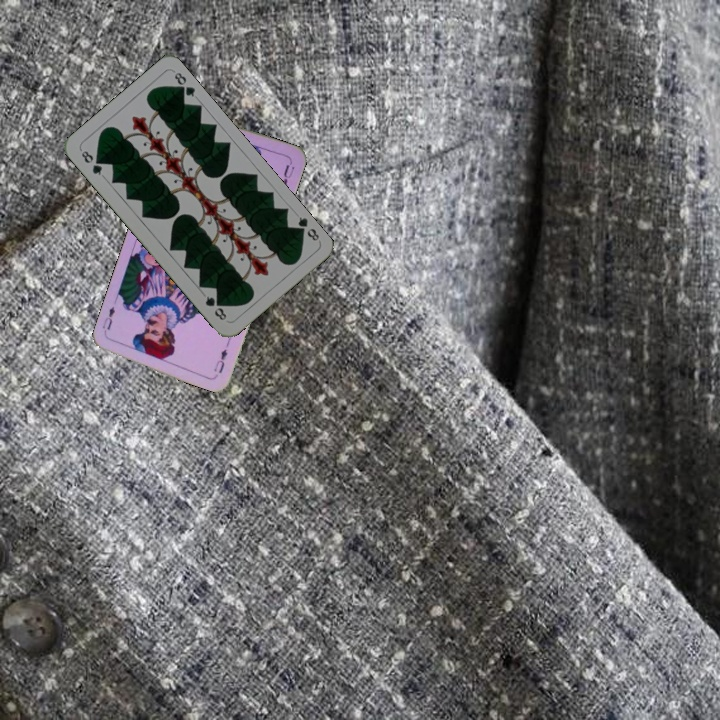EU: (211, 337, 232, 376)
G8: (291, 212, 322, 244), (77, 146, 105, 178)
